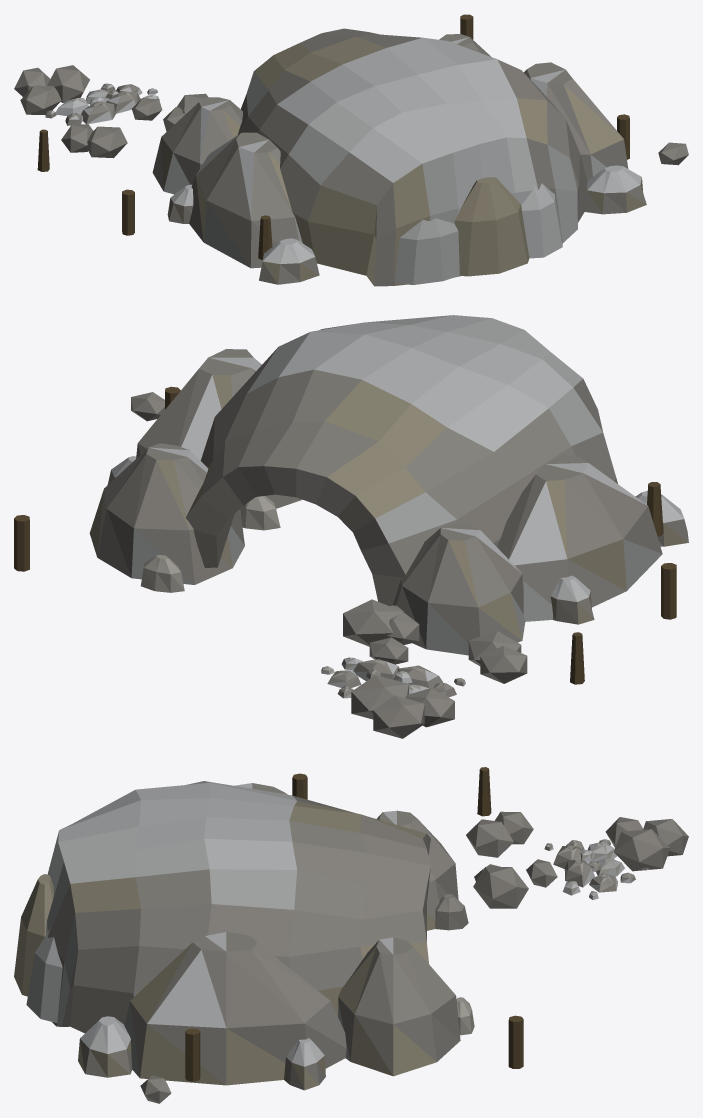
The model's file is cap_cave_mouth_solid_props.fbx.
3 views of the same model, one above another, from view 1: azimuth 30°, elevation 25°; view 2: azimuth 150°, elevation 25°; view 3: azimuth 270°, elevation 25° (orthographic). The views are drawn at different scales.
Visible parts, largest first — view 1: chunk_cap_cave_mouth__PropsSolid; view 2: chunk_cap_cave_mouth__PropsSolid; view 3: chunk_cap_cave_mouth__PropsSolid.
Boxes of the visible parts, x1,y1,x2,y2 form: chunk_cap_cave_mouth__PropsSolid: (14, 14, 688, 286); chunk_cap_cave_mouth__PropsSolid: (14, 315, 688, 738); chunk_cap_cave_mouth__PropsSolid: (14, 767, 688, 1103).
Size of the model in its own units: 183 by 48.9 by 182.
